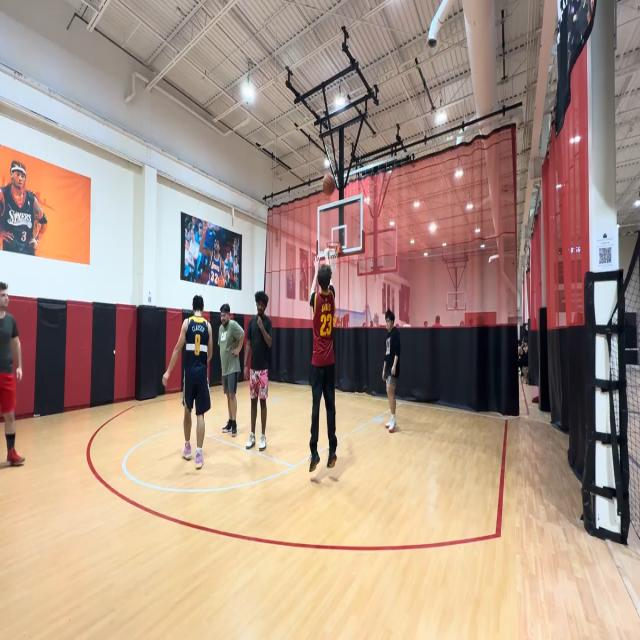Basketball: (323, 172, 335, 196)
Basketball Rim: (328, 241, 340, 271)
Player: (169, 297, 214, 465), (310, 249, 337, 474), (0, 280, 22, 466), (244, 291, 268, 450), (218, 304, 242, 436), (381, 308, 399, 433)
